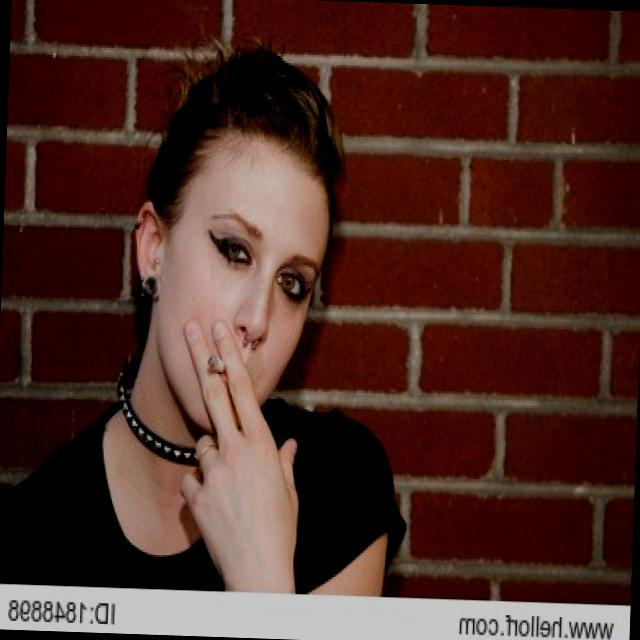cigarette: (203, 355, 223, 377)
